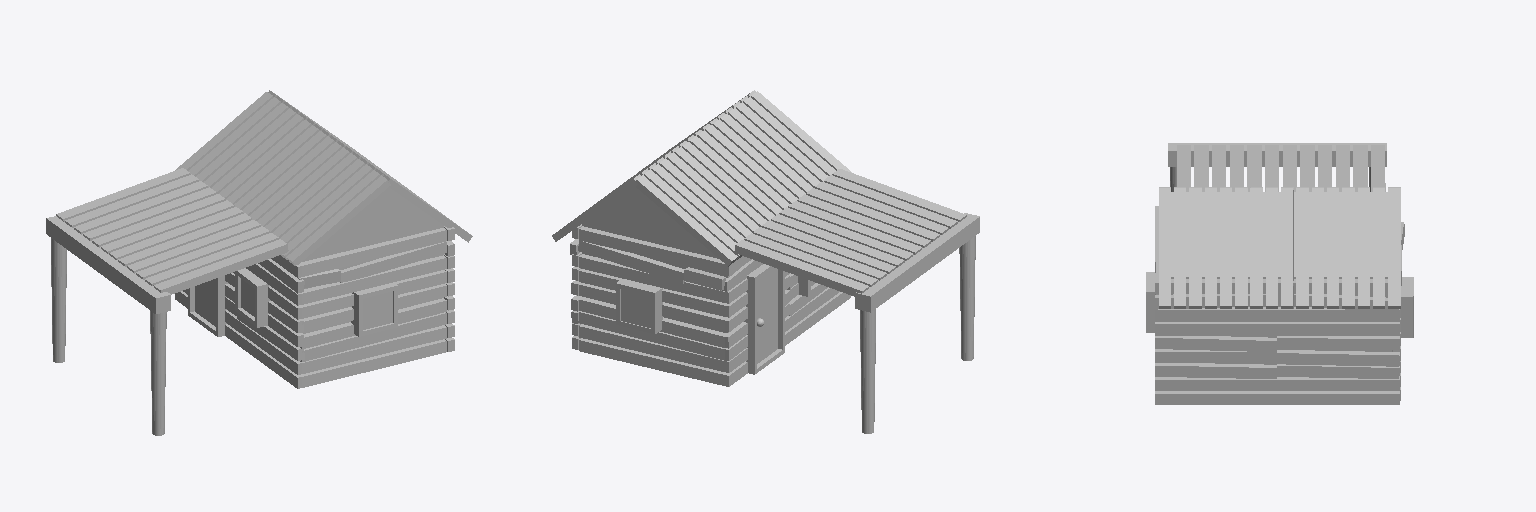
The model's file is House.obj.
3 renders of one model, left to right at view 1: azimuth 30°, elevation 25°; view 2: azimuth 150°, elevation 25°; view 3: azimuth 270°, elevation 25°, orthographic.
Parts seen in each view (by area): view 1: Cube.001, Cube.171_Cube.211, Cube.038, Cube.030, Cube.222_Cube.226, Cube.036, Cube.031, Cylinder, Cube.170, Cube.188, Cylinder.001, Cube.032 (+28 smaller); view 2: Cube.001, Cube.170, Cube.171_Cube.211, Cube.028, Cube.211_Cube.215, Cube.020, Cube.021, Cube.026, Cylinder.001, Cube.173, Cylinder, Cube.022 (+28 smaller); view 3: Cube.001, Cube.014, Cube.004, Cube.006, Cube.011, Cube.016, Cube.002, Cube.007, Cube.015, Cube.008, Cube.012, Cube.003 (+28 smaller).
Boxes of the visible parts, x1=… form: Cube.001: x1=302, y1=187, x2=443, y2=333; Cube.171_Cube.211: x1=46, y1=216, x2=170, y2=313; Cube.038: x1=299, y1=228, x2=446, y2=276; Cube.030: x1=300, y1=339, x2=446, y2=387; Cube.222_Cube.226: x1=153, y1=239, x2=288, y2=294; Cube.036: x1=302, y1=255, x2=446, y2=304; Cube.031: x1=299, y1=325, x2=446, y2=373; Cylinder: x1=150, y1=311, x2=166, y2=435; Cube.170: x1=188, y1=275, x2=228, y2=336; Cube.188: x1=286, y1=175, x2=390, y2=265; Cylinder.001: x1=51, y1=238, x2=66, y2=362; Cube.032: x1=300, y1=312, x2=446, y2=361; Cube.001: x1=582, y1=187, x2=788, y2=332; Cube.170: x1=744, y1=264, x2=784, y2=374; Cube.171_Cube.211: x1=855, y1=213, x2=979, y2=312; Cube.028: x1=579, y1=226, x2=724, y2=274; Cube.211_Cube.215: x1=734, y1=240, x2=868, y2=296; Cube.020: x1=579, y1=338, x2=726, y2=385; Cube.021: x1=579, y1=324, x2=724, y2=371; Cube.026: x1=579, y1=254, x2=724, y2=302; Cylinder.001: x1=860, y1=309, x2=875, y2=433; Cube.173: x1=635, y1=175, x2=737, y2=266; Cylinder: x1=959, y1=236, x2=975, y2=360; Cube.022: x1=578, y1=311, x2=724, y2=360; Cube.001: x1=1171, y1=192, x2=1391, y2=364; Cube.014: x1=1277, y1=350, x2=1399, y2=366; Cube.004: x1=1155, y1=363, x2=1276, y2=378; Cube.006: x1=1155, y1=336, x2=1276, y2=351; Cube.011: x1=1277, y1=391, x2=1399, y2=404; Cube.016: x1=1277, y1=322, x2=1399, y2=335; Cube.002: x1=1155, y1=391, x2=1276, y2=404; Cube.007: x1=1155, y1=322, x2=1276, y2=335; Cube.015: x1=1277, y1=336, x2=1399, y2=349; Cube.008: x1=1155, y1=307, x2=1276, y2=321; Cube.012: x1=1277, y1=376, x2=1399, y2=390; Cube.003: x1=1155, y1=377, x2=1276, y2=390.
Bounding box in the file's own units: 23.58 × 14.97 × 17.54.